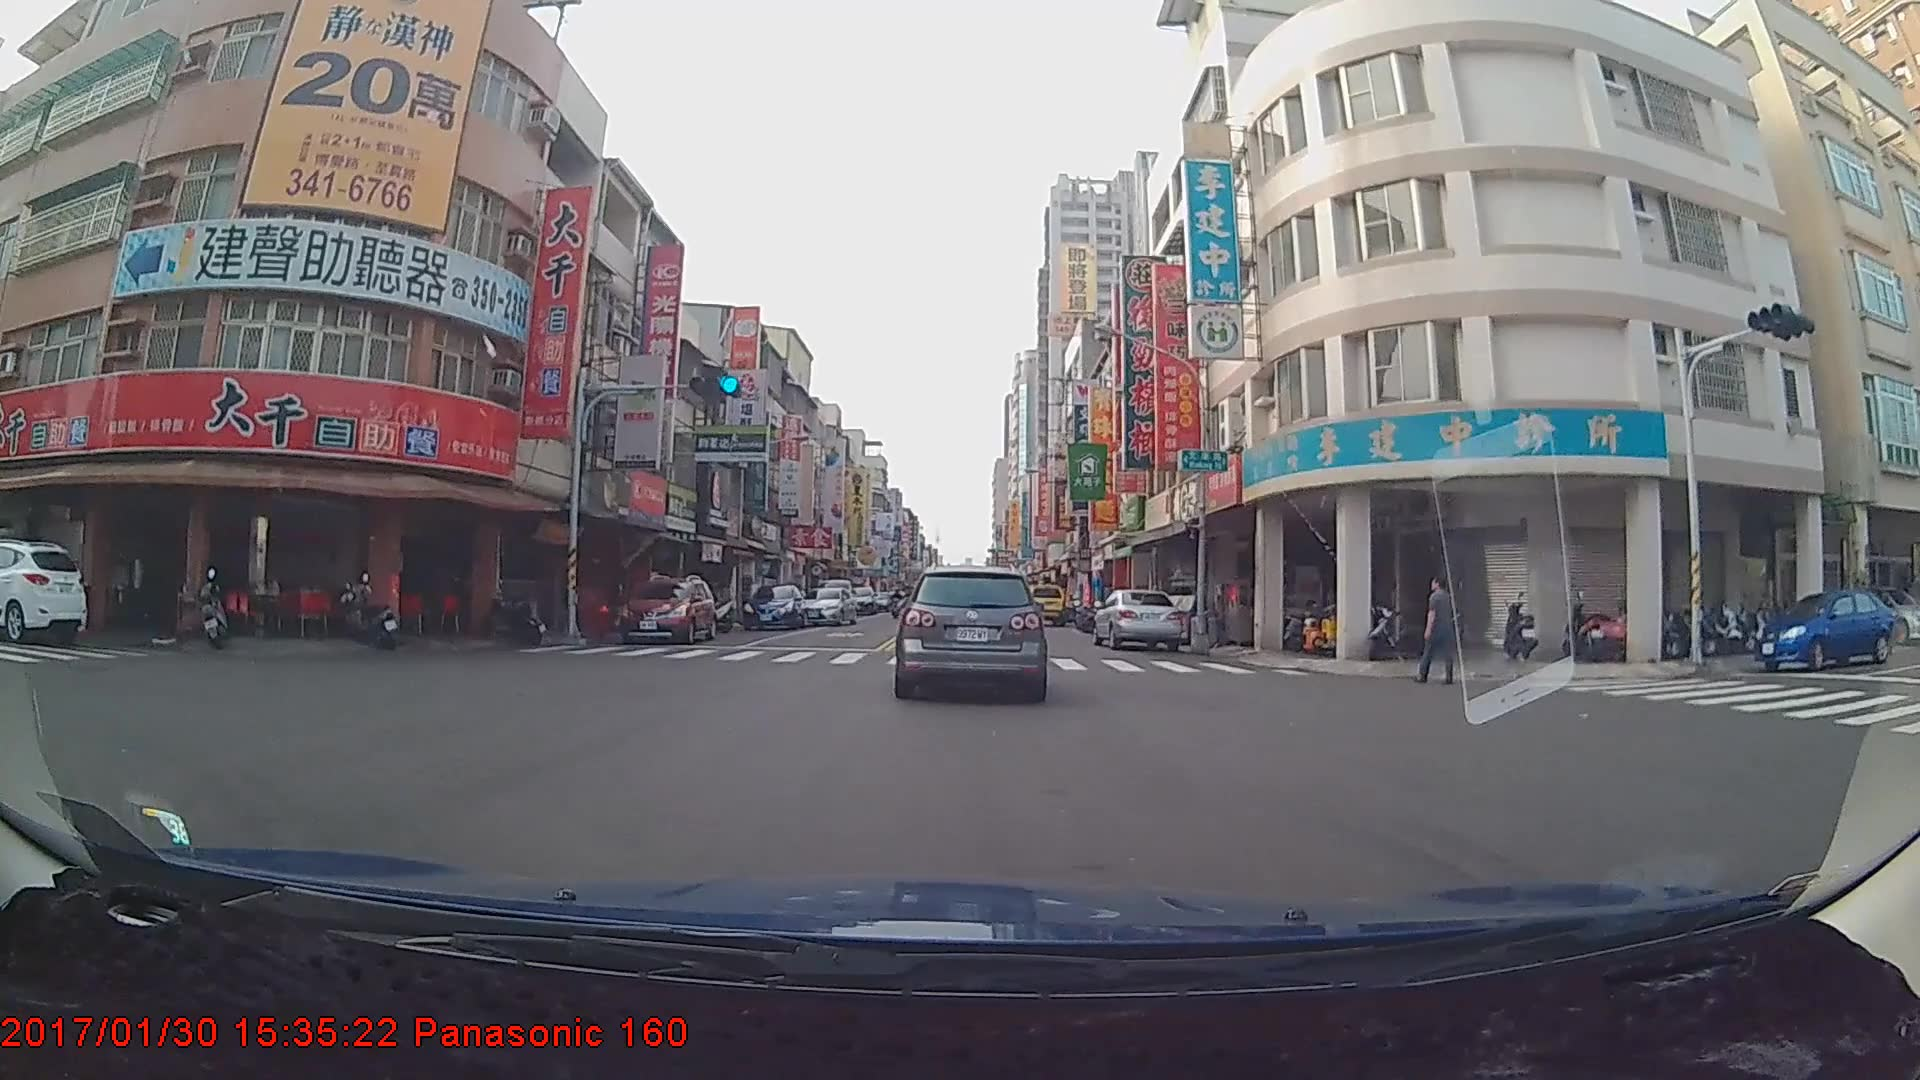pedestrian: (1419, 579, 1460, 691)
vehicle: (898, 565, 1046, 700), (1760, 588, 1896, 671), (0, 538, 88, 644), (619, 576, 716, 644), (1093, 590, 1182, 653), (739, 586, 807, 634), (799, 584, 857, 627), (1023, 582, 1067, 627)
